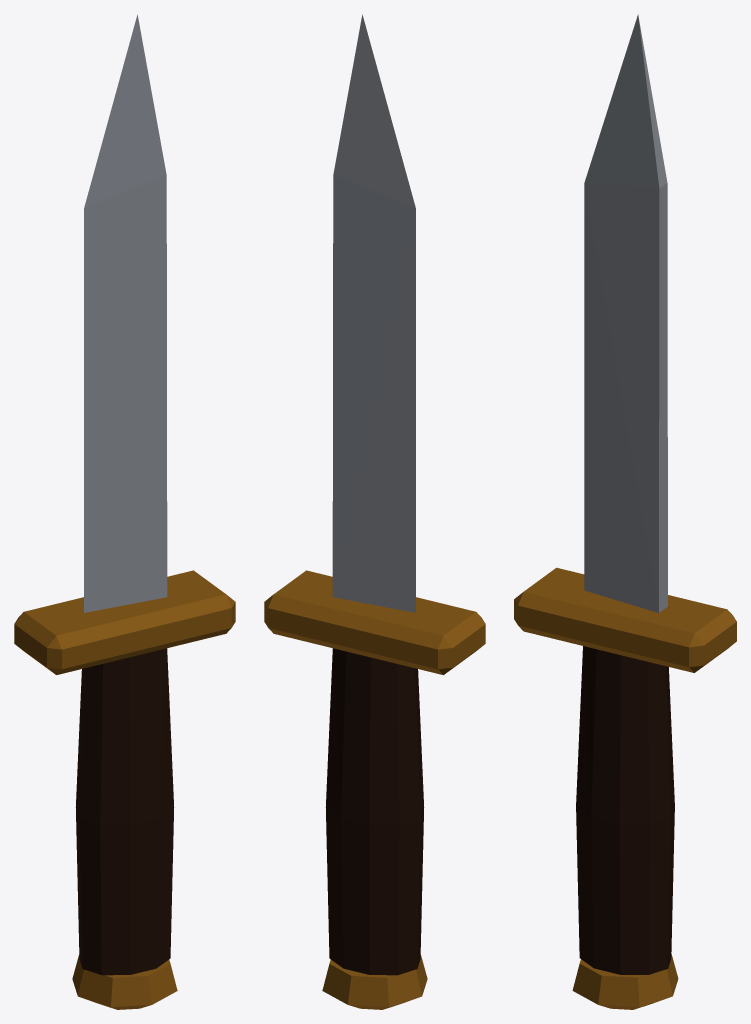
File: Knife.obj
The picture shows the model from 3 angles, left to right: view 1: azimuth 30°, elevation 25°; view 2: azimuth 150°, elevation 25°; view 3: azimuth 330°, elevation 25°; orthographic projection.
Parts seen in each view (by area): view 1: Steel, Leather, Brass; view 2: Steel, Leather, Brass; view 3: Steel, Leather, Brass.
Part boxes in pixels (x1,y1,x2,y2): Steel: [84, 14, 167, 612]; Leather: [75, 648, 174, 975]; Brass: [14, 570, 235, 1009]; Steel: [332, 14, 415, 612]; Leather: [325, 648, 424, 975]; Brass: [264, 570, 485, 1009]; Steel: [584, 14, 667, 612]; Leather: [576, 646, 674, 974]; Brass: [514, 567, 736, 1009].
Size of the model in its own units: 0.06 by 0.298 by 0.03.
